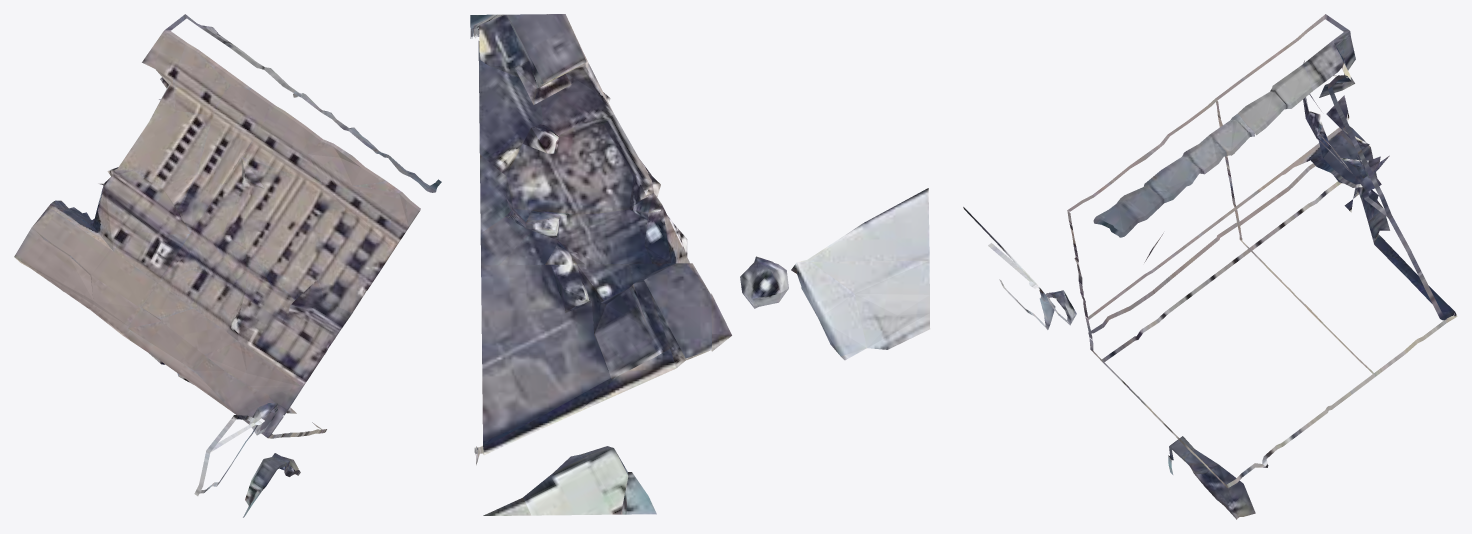
The picture shows the model from 3 angles, left to right: view 1: azimuth 30°, elevation 25°; view 2: azimuth 150°, elevation 25°; view 3: azimuth 270°, elevation 25°; orthographic projection. The views are drawn at different scales.
Size of the model in its own units: 36.23 by 48.28 by 47.52.
Materials: 1 (1 with a texture image).
